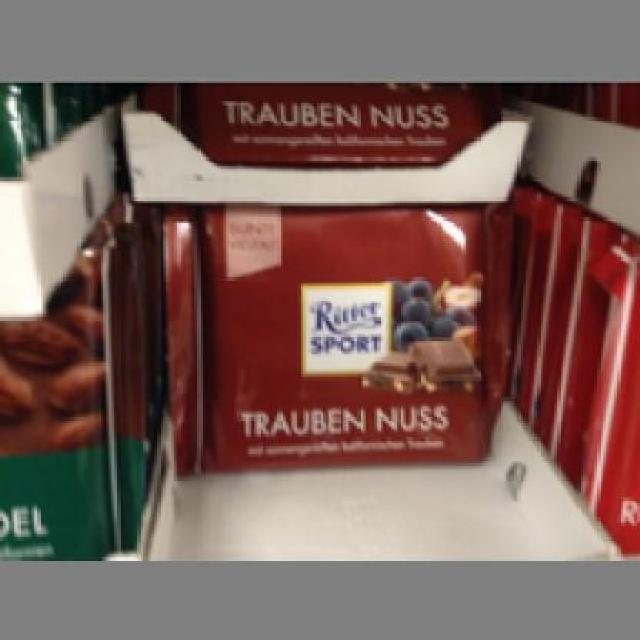Chocolate bar: (163, 203, 511, 474)
